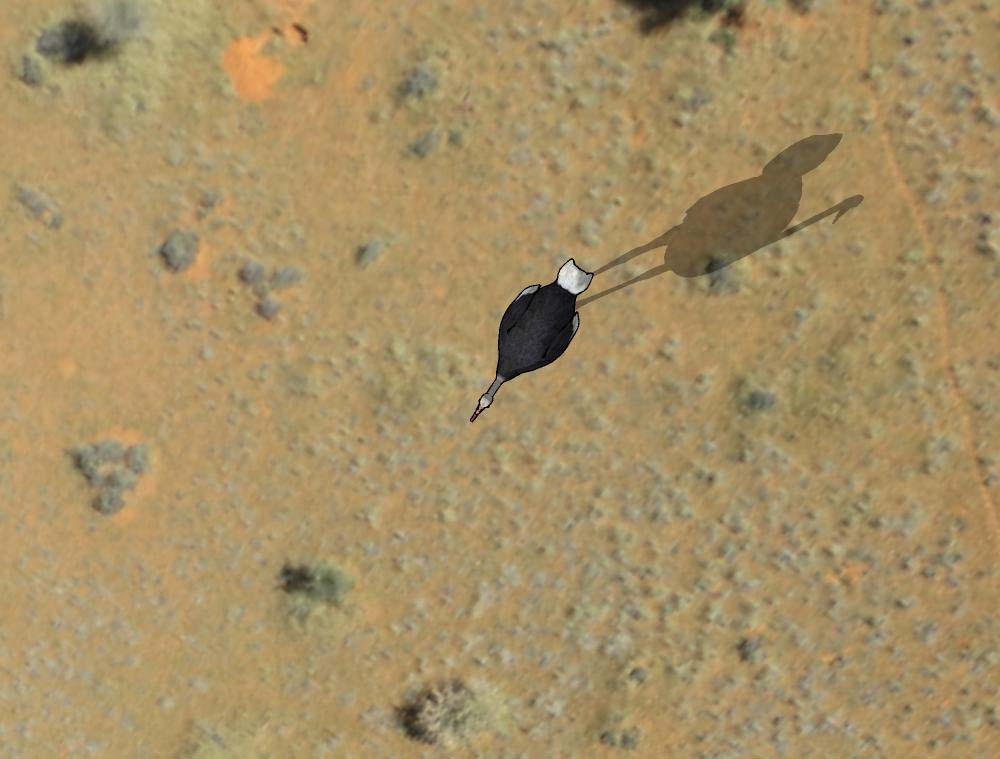springbok: (456, 252, 611, 426)
